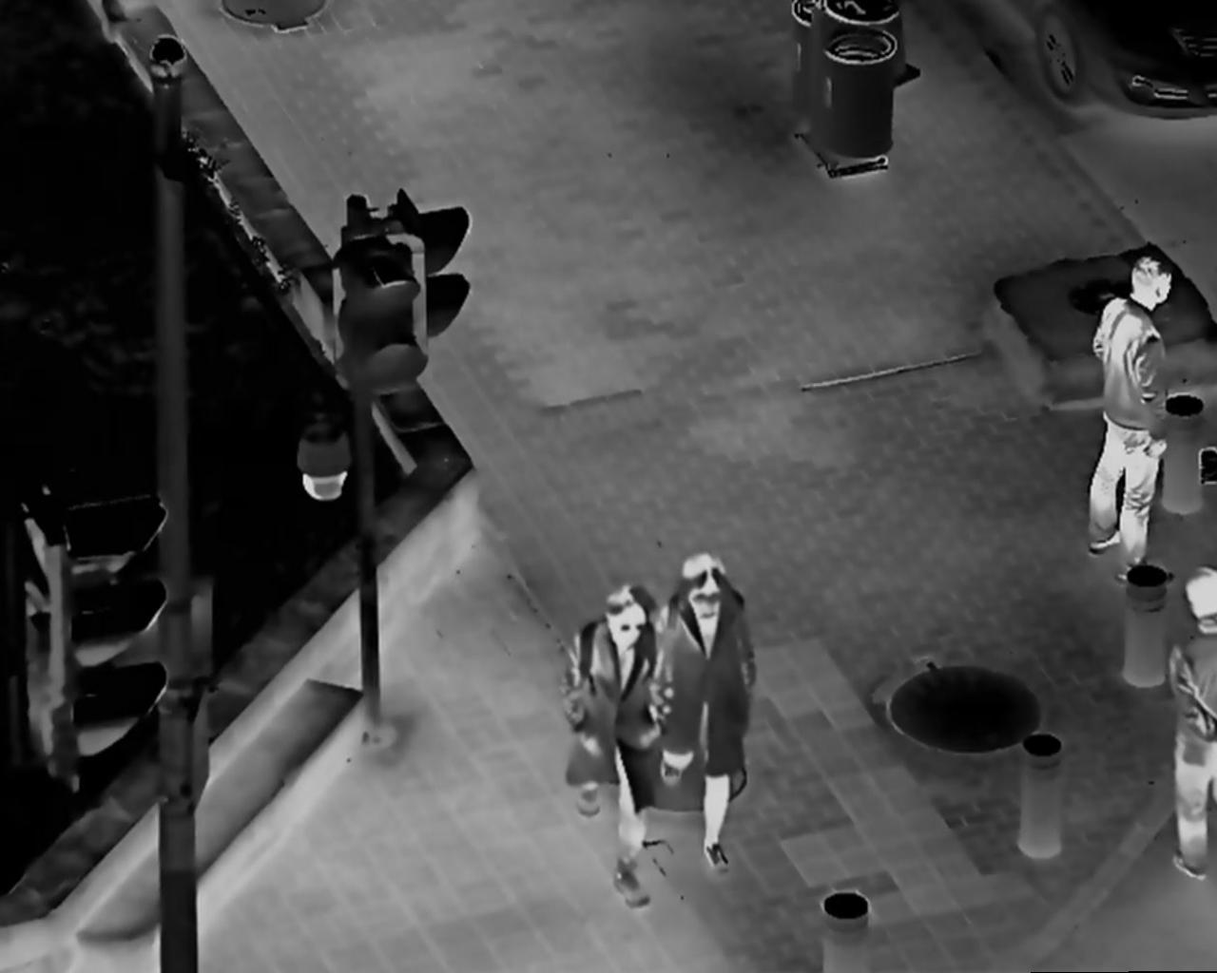person: (554, 582, 677, 921), (1086, 251, 1186, 588), (661, 557, 760, 886), (1164, 564, 1217, 886)
